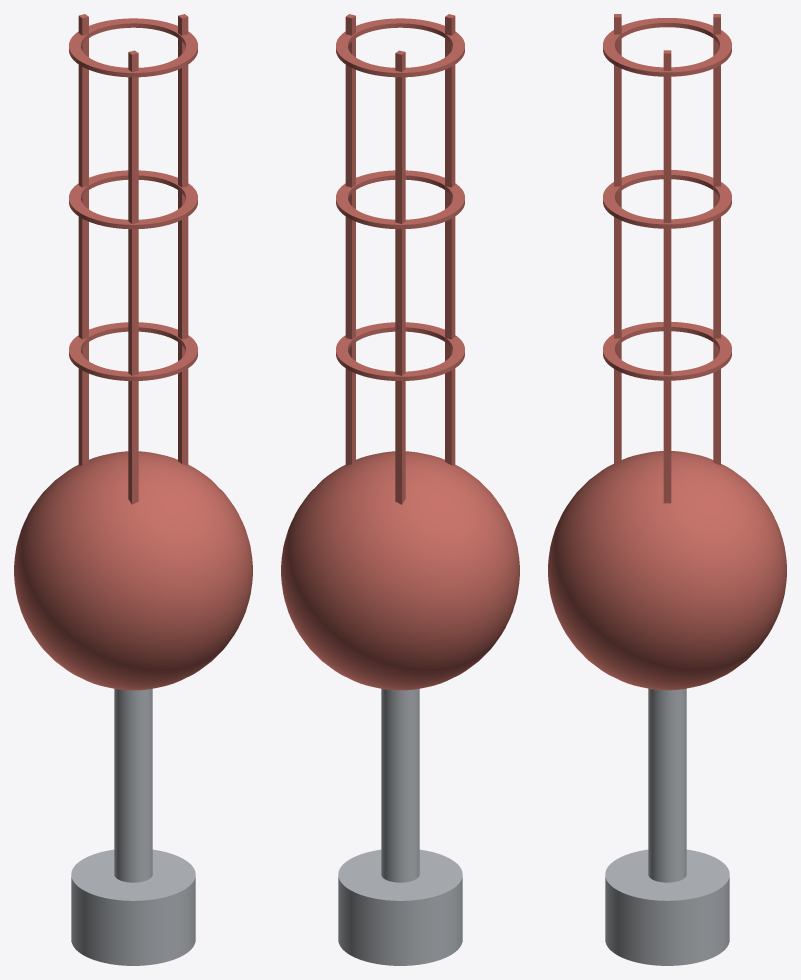
The model's file is step_03.glb.
The picture shows the model from 3 angles, left to right: view 1: azimuth 30°, elevation 25°; view 2: azimuth 150°, elevation 25°; view 3: azimuth 270°, elevation 25°; orthographic projection.
Parts seen in each view (by area): view 1: part__steel spherical float, part__lattice tower, part__tail and ballast; view 2: part__steel spherical float, part__lattice tower, part__tail and ballast; view 3: part__steel spherical float, part__tail and ballast, part__lattice tower.
Part boxes in pixels (left/top/right/bottom): part__steel spherical float: left=14, top=451, right=252, bottom=690; part__lattice tower: left=69, top=14, right=197, bottom=504; part__tail and ballast: left=71, top=688, right=195, bottom=965; part__steel spherical float: left=281, top=451, right=519, bottom=690; part__lattice tower: left=336, top=14, right=464, bottom=504; part__tail and ballast: left=338, top=688, right=462, bottom=965; part__steel spherical float: left=548, top=451, right=786, bottom=690; part__tail and ballast: left=605, top=688, right=729, bottom=965; part__lattice tower: left=603, top=14, right=731, bottom=503.
Bounding box in the file's own units: 499 × 2100 × 499.
